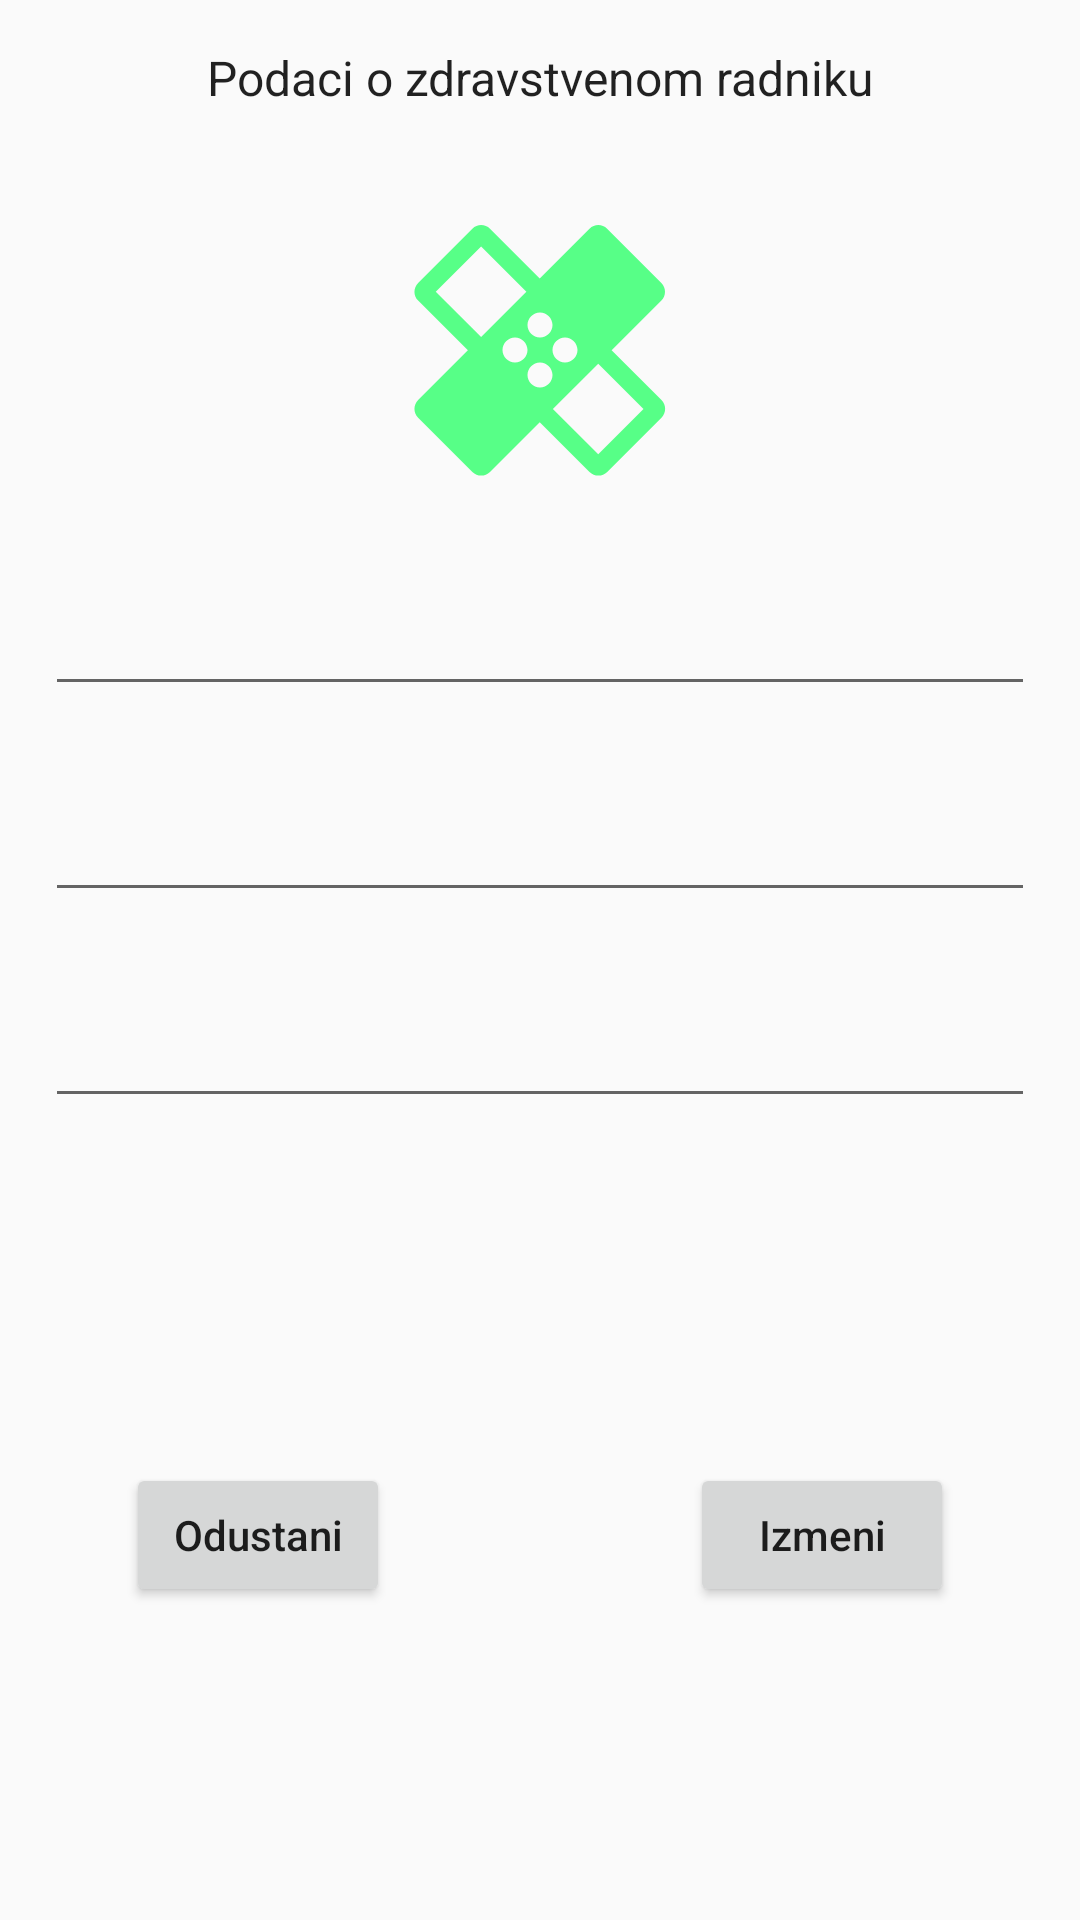

Icons on this 1080*1920 Android screen, each with its box as (x1, y1, x2, y2):
healing: (414, 225, 665, 476)
